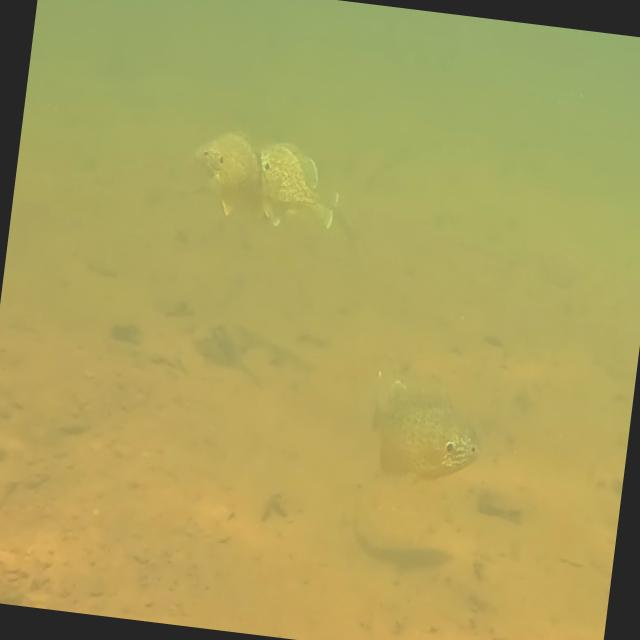Gunes Levregi: (352, 367, 490, 495)
